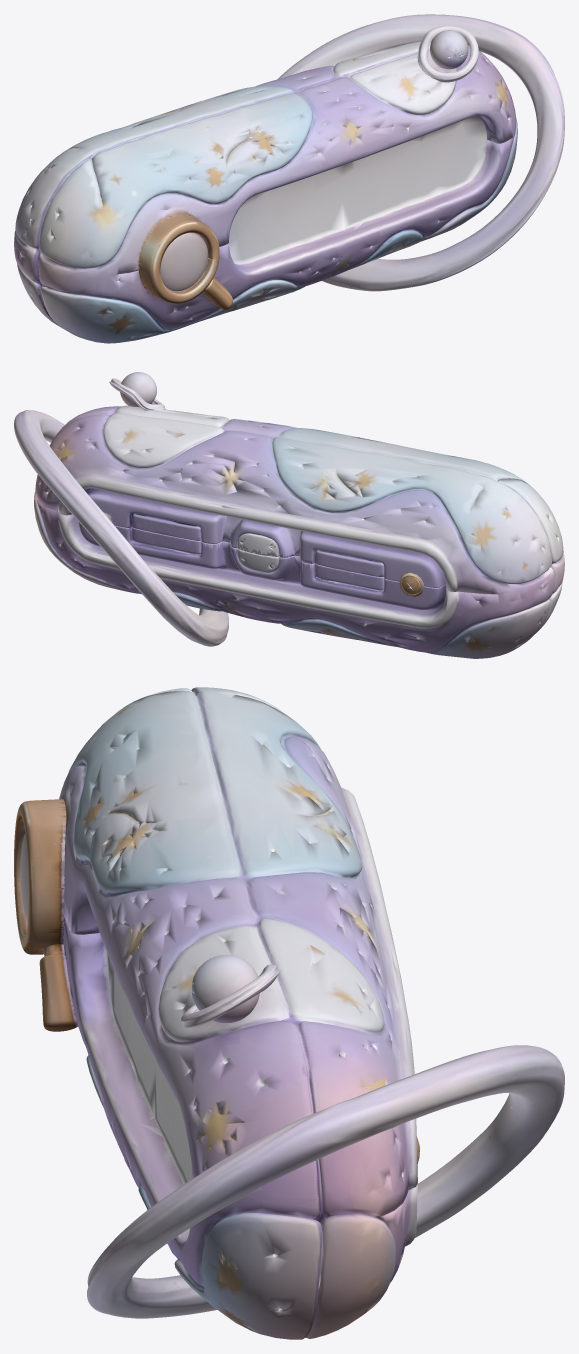
The model's file is bar-mobile.glb.
3 views of the same model, one above another, from view 1: azimuth 30°, elevation 25°; view 2: azimuth 150°, elevation 25°; view 3: azimuth 270°, elevation 25° (orthographic). The views are drawn at different scales.
Visible parts, largest first — view 1: tripo_part_0, tripo_part_1, tripo_part_3, tripo_part_4, tripo_part_7; view 2: tripo_part_0, tripo_part_1, tripo_part_5, tripo_part_2, tripo_part_6, tripo_part_7, tripo_part_4, tripo_part_9; view 3: tripo_part_0, tripo_part_1, tripo_part_3, tripo_part_7, tripo_part_4.
Part boxes in pixels (box(x1,y1,x2,y2)): tripo_part_0: box(14, 40, 517, 343); tripo_part_1: box(278, 14, 564, 291); tripo_part_3: box(138, 214, 232, 309); tripo_part_4: box(417, 26, 478, 82); tripo_part_7: box(430, 30, 468, 69); tripo_part_0: box(34, 405, 564, 658); tripo_part_1: box(14, 410, 228, 646); tripo_part_5: box(223, 519, 384, 602); tripo_part_2: box(78, 488, 225, 568); tripo_part_6: box(377, 545, 446, 609); tripo_part_7: box(120, 372, 156, 407); tripo_part_4: box(109, 378, 165, 411); tripo_part_9: box(399, 573, 423, 596); tripo_part_0: box(59, 687, 417, 1339); tripo_part_1: box(87, 1045, 564, 1318); tripo_part_3: box(14, 799, 78, 1031); tripo_part_7: box(191, 955, 259, 1023); tripo_part_4: box(181, 964, 279, 1028).
Size of the model in its own units: 1 by 0.4232 by 0.5031.
10 materials, 10 textured.
